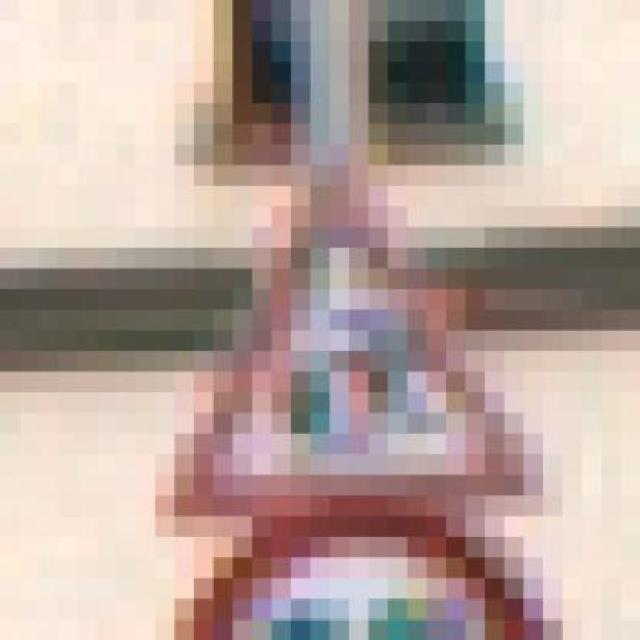Beware of children: (97, 123, 563, 537)
